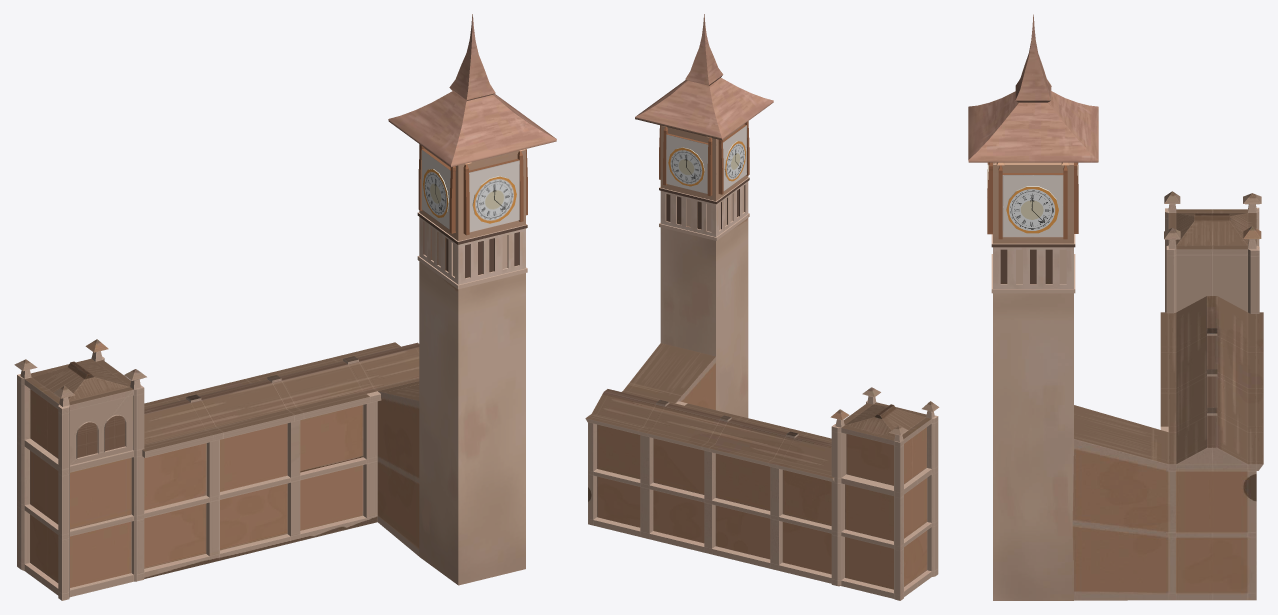
Rendered from tokeitou.fbx.
The picture shows the model from 3 angles, left to right: view 1: azimuth 30°, elevation 25°; view 2: azimuth 150°, elevation 25°; view 3: azimuth 270°, elevation 25°; orthographic projection. The views are drawn at different scales.
Parts seen in each view (by area): view 1: polySurface2, polySurface3, pCube6, pCylinder6; view 2: polySurface2, polySurface3, pCube6, pCylinder6; view 3: polySurface2, polySurface3, pCube6, pCylinder6.
Part boxes in pixels (x1=…): polySurface2: x1=14, y1=339, x2=419, y2=600; polySurface3: x1=388, y1=14, x2=556, y2=585; pCube6: x1=418, y1=144, x2=527, y2=235; pCylinder6: x1=423, y1=169, x2=516, y2=223; polySurface2: x1=585, y1=343, x2=939, y2=600; polySurface3: x1=635, y1=14, x2=773, y2=417; pCube6: x1=659, y1=121, x2=749, y2=196; pCylinder6: x1=668, y1=141, x2=745, y2=186; polySurface2: x1=1072, y1=191, x2=1263, y2=600; polySurface3: x1=968, y1=14, x2=1098, y2=600; pCube6: x1=987, y1=162, x2=1078, y2=239; pCylinder6: x1=987, y1=164, x2=1078, y2=233.
Bounding box in the file's own units: 18.27 × 23.88 × 11.21.
